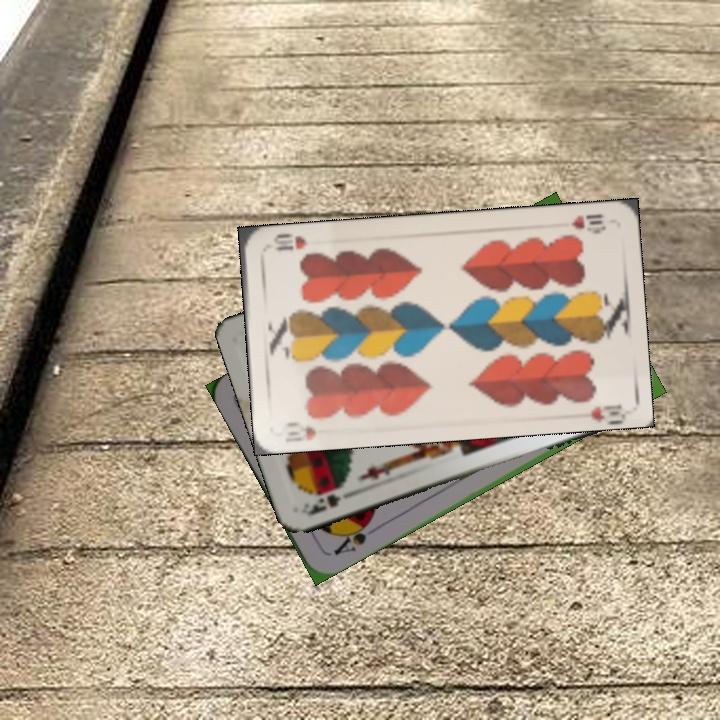H10: (566, 210, 608, 236), (281, 417, 319, 444)
SA: (329, 514, 381, 559)
SK: (299, 482, 358, 519)
